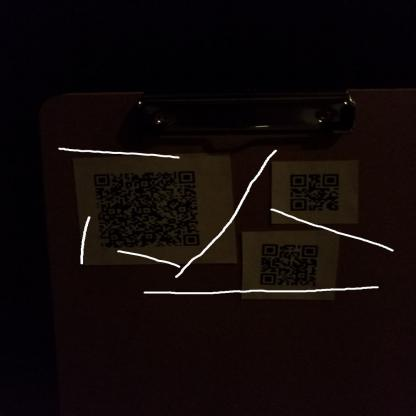qr: (92, 168, 202, 251), (258, 237, 323, 295), (286, 170, 343, 217)
